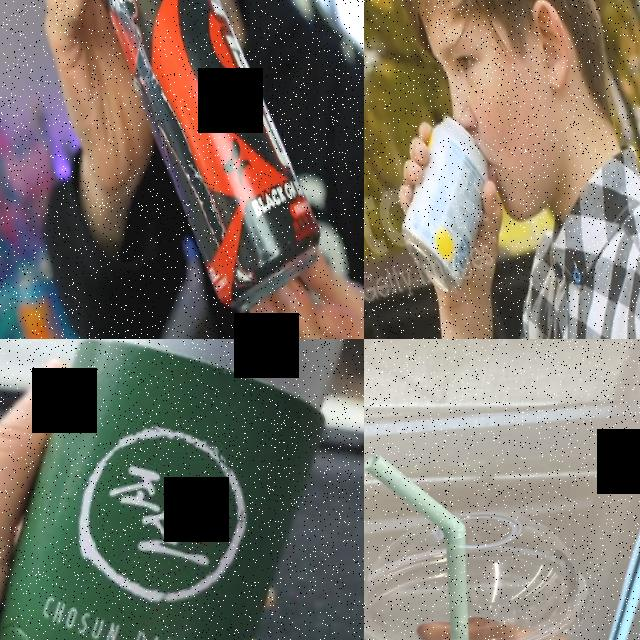can: (0, 339, 364, 640), (49, 0, 337, 329), (370, 105, 522, 304)
cup: (364, 479, 640, 640)
